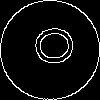O: (25, 25, 75, 67)
